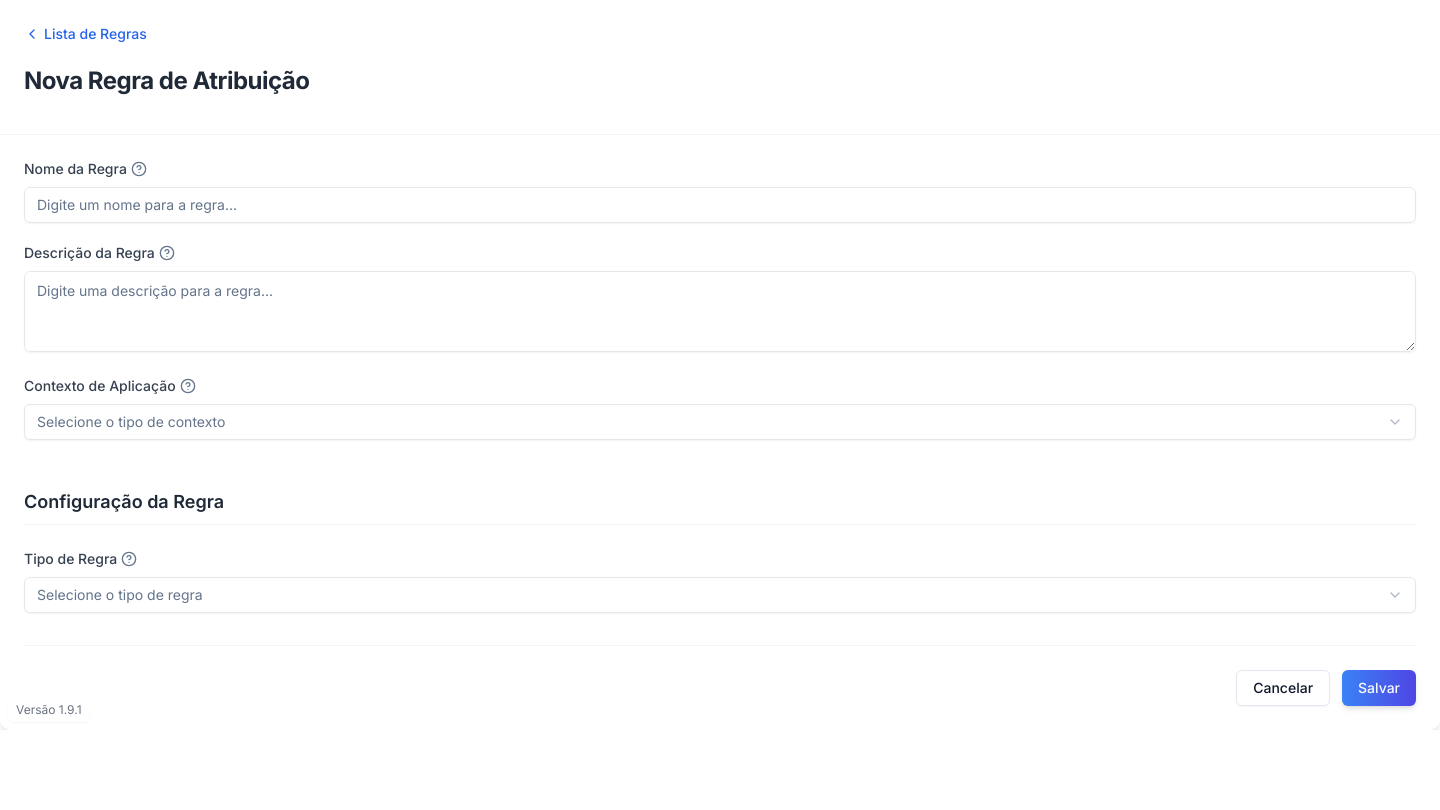
RuleForm › exibe mensagens de erro quando a validação falha
// Submeter sem preencher campos obrigatórios
Click the button "Salvar" at (1379, 688), box x1=1342 y1=670 x2=1416 y2=706
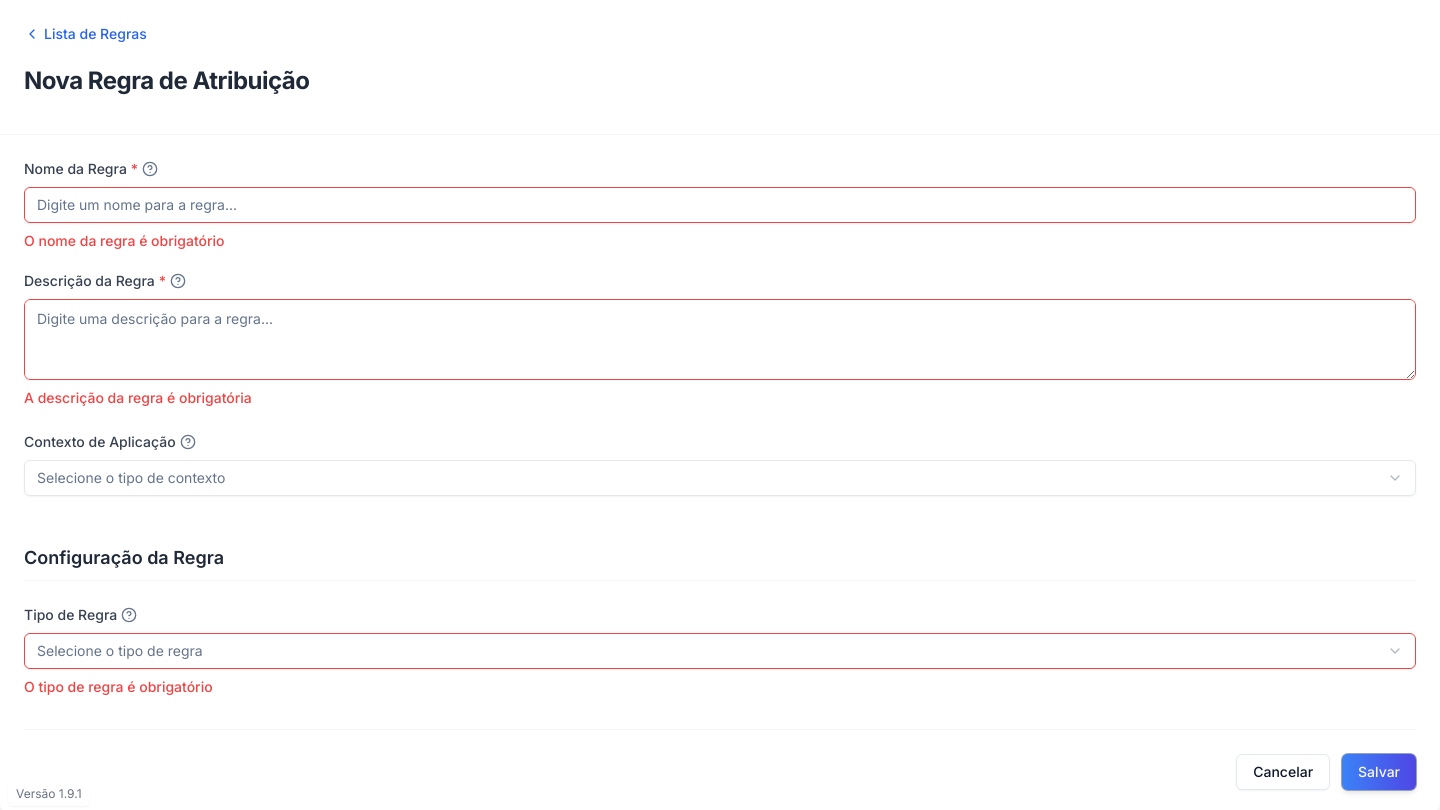
Expected: the text "O nome da regra é obrigatório" is shown, x1=24 y1=232 x2=224 y2=249
Expected: the text "A descrição da regra é obrigatória" is shown, x1=24 y1=389 x2=252 y2=406
Expected: the text "O tipo de regra é obrigatório" is shown, x1=24 y1=678 x2=213 y2=695
